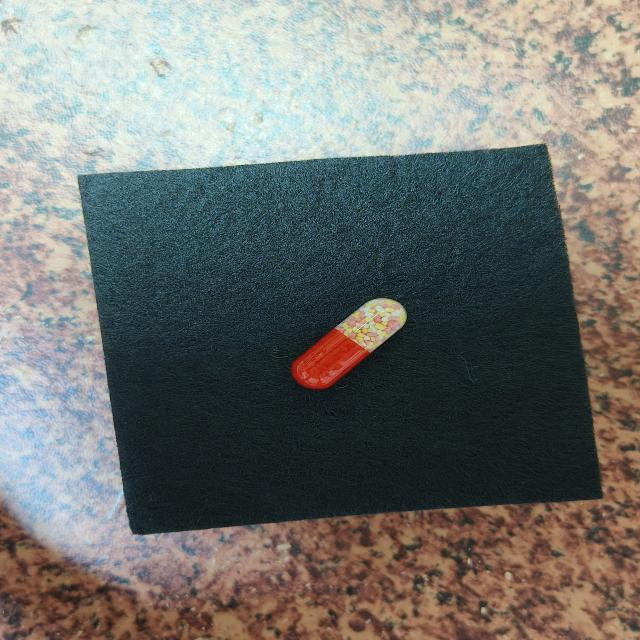Intact Capsule: (291, 298, 407, 389)
